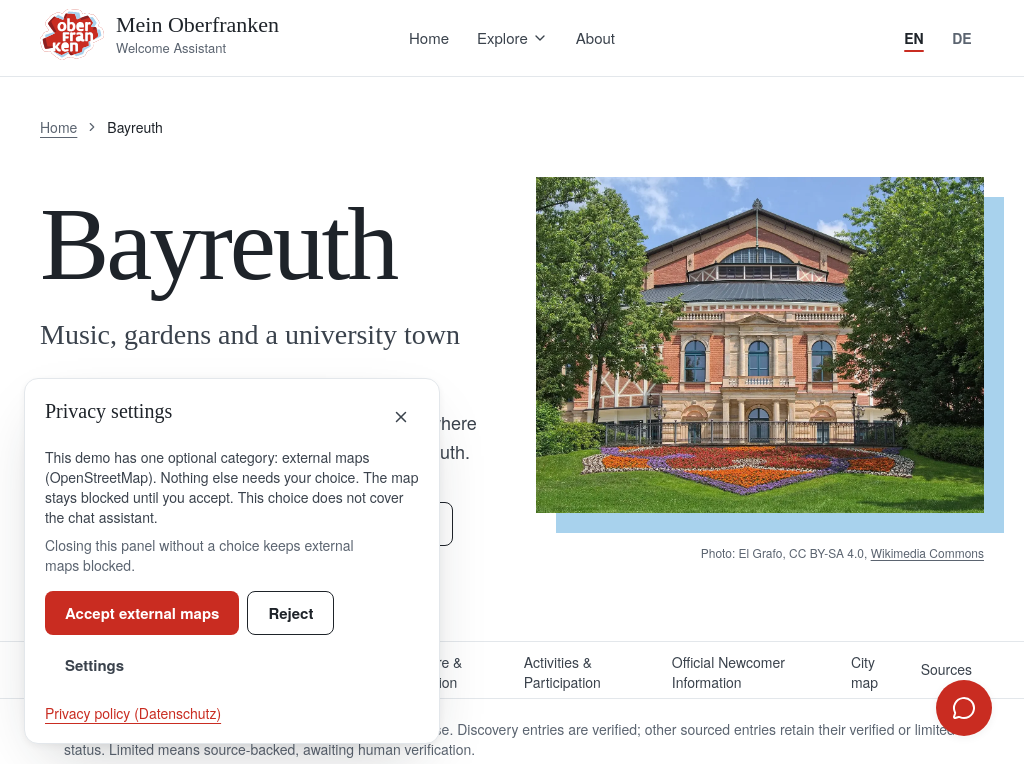
Test: sourced pilot page: bayreuth › renders sourced sections with real dates and limited labels in de
Click the button with aria-label "Deutsch": (962, 38) left=940, top=16, right=984, bottom=60
(page scrolled)
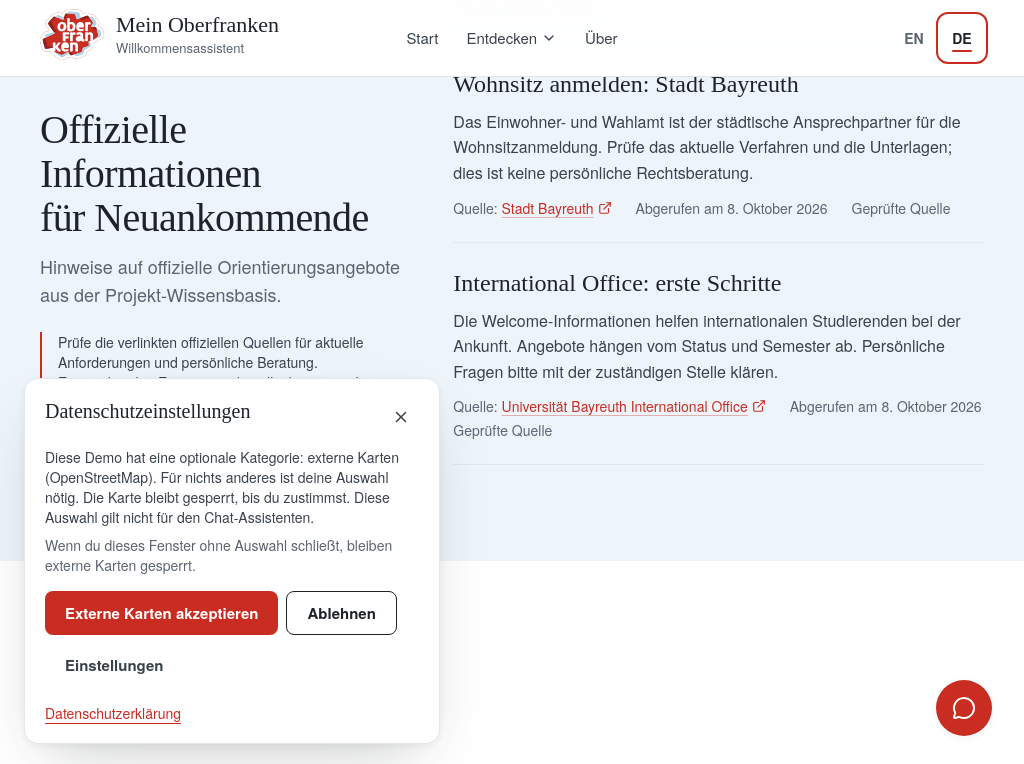
Expected: the heading "Wohnsitz anmelden: Stadt Bayreuth" is shown, left=453, top=71, right=799, bottom=97
Expected: the text "Das Einwohner- und Wahlamt ist der städtische Ansprechpartner für die Wohnsitzanmeldung. Prüfe das aktuelle Verfahren un" is shown, left=453, top=110, right=960, bottom=184
Expected: the 1st text "Abgerufen am 8. Oktober 2026" is shown, left=636, top=198, right=828, bottom=218
